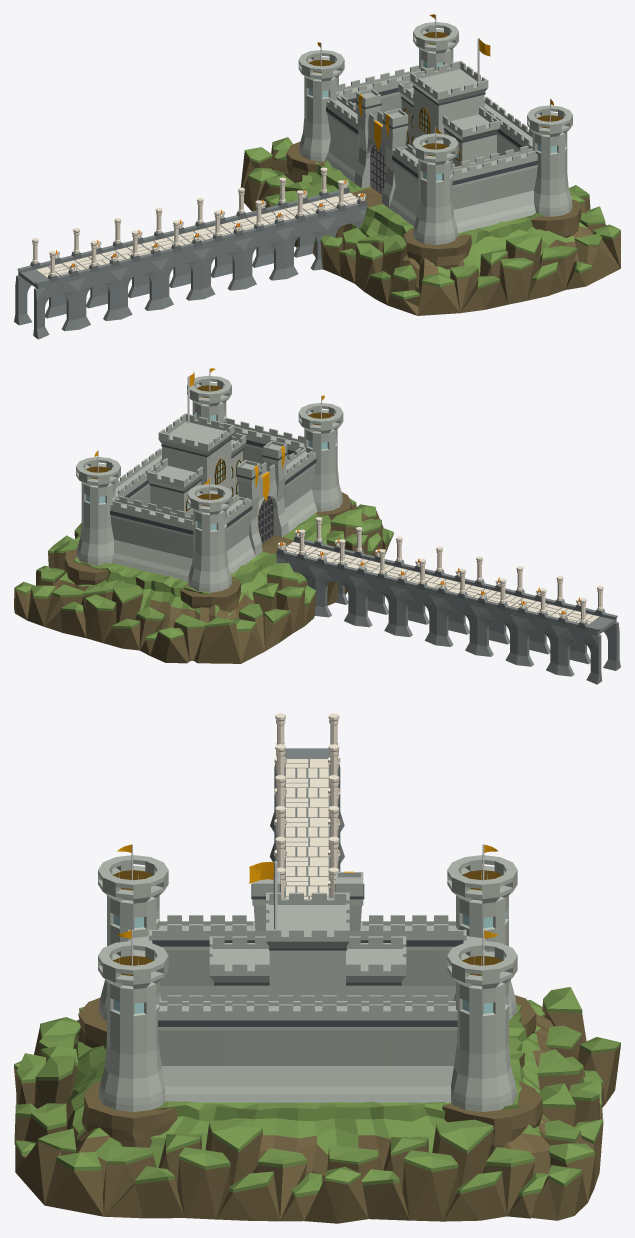
The model's file is Castillo_LODS.fbx.
The picture shows the model from 3 angles, top to bottom: view 1: azimuth 30°, elevation 25°; view 2: azimuth 150°, elevation 25°; view 3: azimuth 270°, elevation 25°; orthographic projection. The views are drawn at different scales.
Visible parts, largest first — view 1: Plane.002; view 2: Plane.002; view 3: Plane.002.
Boxes of the visible parts, x1,y1,x2,y2 form: Plane.002: [14, 14, 620, 339]; Plane.002: [14, 368, 620, 684]; Plane.002: [14, 713, 620, 1223].
Bounding box in the file's own units: 5793 × 1987 × 3711.
